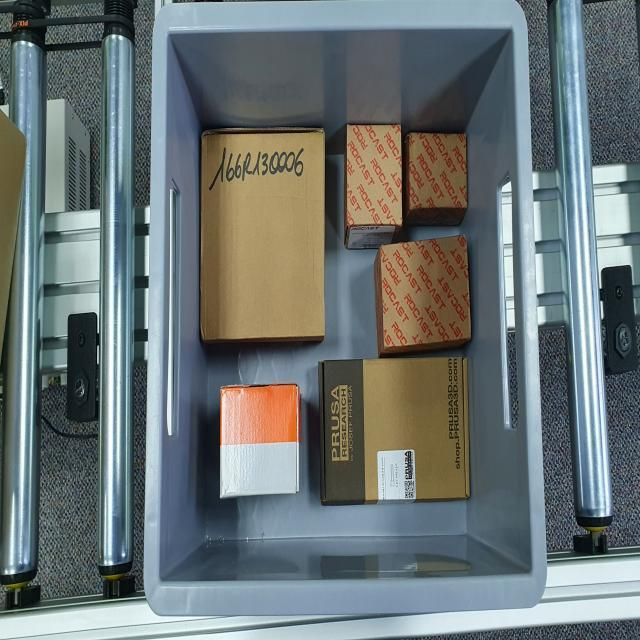box: (198, 126, 324, 342), (320, 358, 472, 502), (377, 237, 472, 350), (220, 387, 300, 497), (346, 120, 406, 227), (408, 130, 468, 213)
